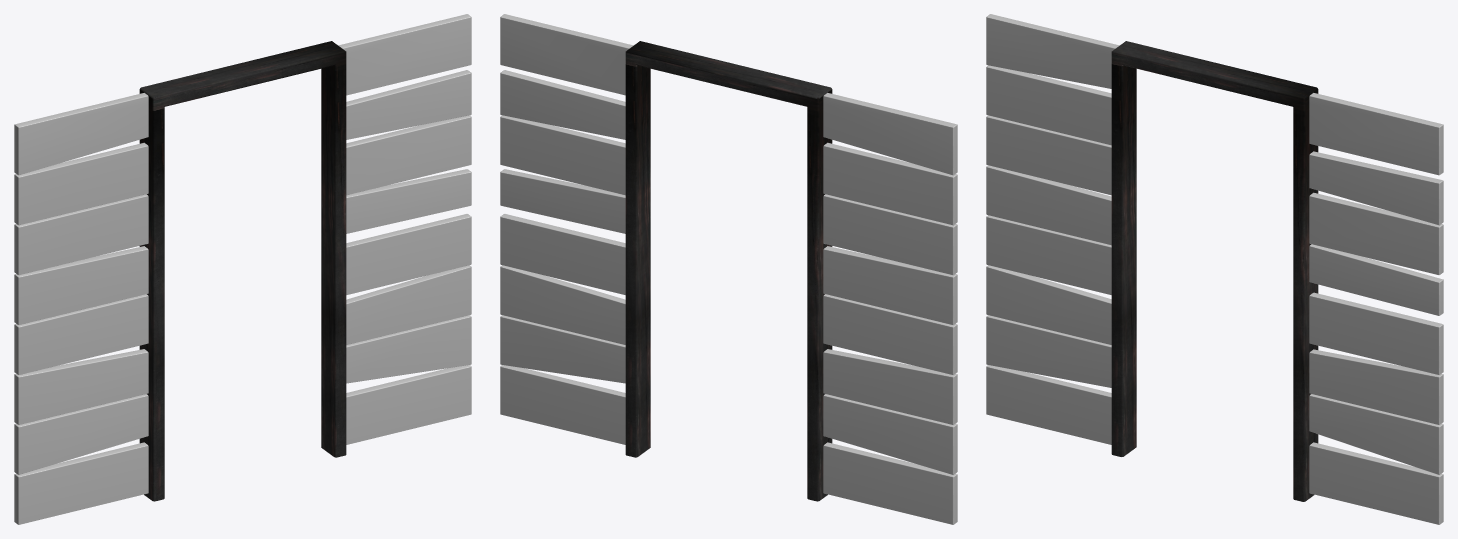
File: Wall_door.fbx
3 views of the same model, side by side, from view 1: azimuth 30°, elevation 25°; view 2: azimuth 150°, elevation 25°; view 3: azimuth 330°, elevation 25° (orthographic).
Parts seen in each view (by area): view 1: Stena_dver; view 2: Stena_dver; view 3: Stena_dver.
Boxes of the visible parts, x1,y1,x2,y2 form: Stena_dver: (14, 14, 471, 524); Stena_dver: (500, 14, 957, 524); Stena_dver: (986, 14, 1443, 524).
Size of the model in its own units: 243 by 207 by 13.66.
